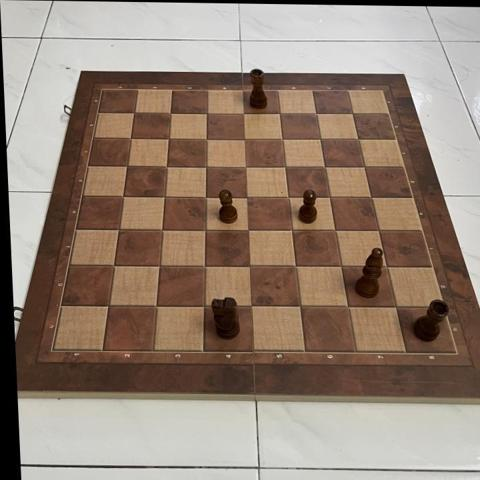xcorner: (272, 105, 289, 122), (235, 105, 252, 122), (199, 105, 216, 122), (162, 105, 179, 122), (126, 105, 143, 122), (350, 131, 367, 148), (312, 131, 329, 148), (274, 131, 291, 148), (317, 159, 334, 176), (277, 159, 294, 176), (238, 159, 255, 176), (119, 158, 136, 175), (322, 189, 339, 206), (239, 189, 256, 206), (198, 189, 215, 206), (284, 222, 301, 239), (197, 222, 214, 239), (154, 222, 171, 239), (111, 222, 128, 239), (333, 259, 350, 276), (197, 258, 214, 275), (106, 258, 123, 275), (387, 299, 404, 316), (292, 299, 309, 316), (244, 299, 261, 316), (149, 298, 166, 315), (101, 298, 118, 315), (345, 106, 362, 122), (308, 106, 325, 122), (237, 131, 253, 148), (199, 131, 215, 148), (123, 131, 140, 147), (357, 159, 373, 176), (198, 159, 215, 175), (363, 190, 380, 206), (281, 189, 297, 206), (157, 189, 173, 206), (115, 189, 132, 205), (371, 223, 387, 240), (327, 223, 344, 239), (241, 222, 257, 239), (379, 259, 395, 276), (288, 259, 304, 276), (242, 259, 259, 275), (152, 258, 168, 275), (340, 299, 356, 316), (196, 299, 213, 315), (161, 131, 177, 147), (159, 159, 175, 175)
